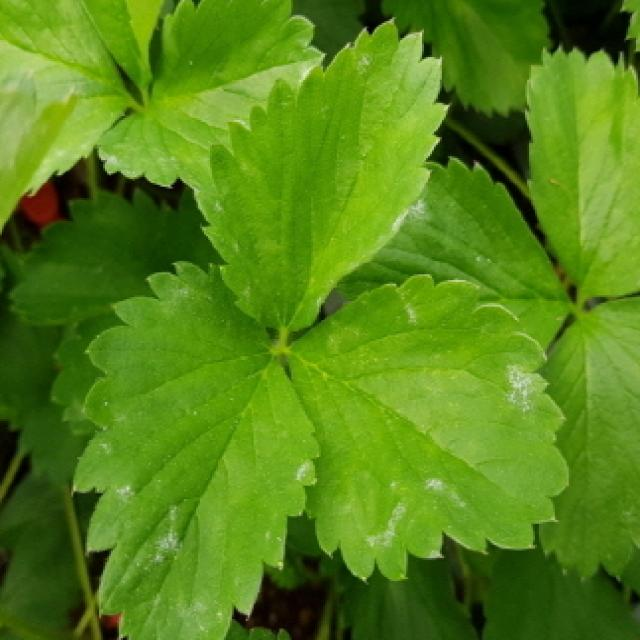Powdery Mildew Leaf: (73, 261, 321, 640), (288, 272, 572, 583), (196, 15, 452, 338), (93, 0, 329, 196)
